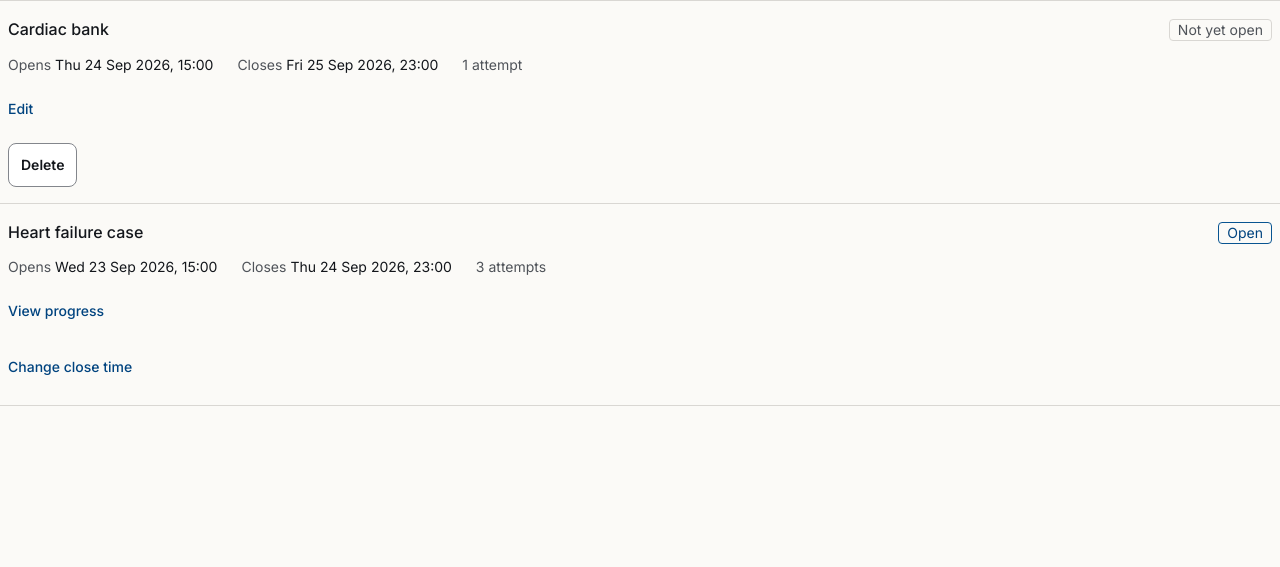
Scenario: AssignmentList › mounts an edit form only when its row is opened
Click the heading "Change close time" at (70, 367), box [8,345,132,389]
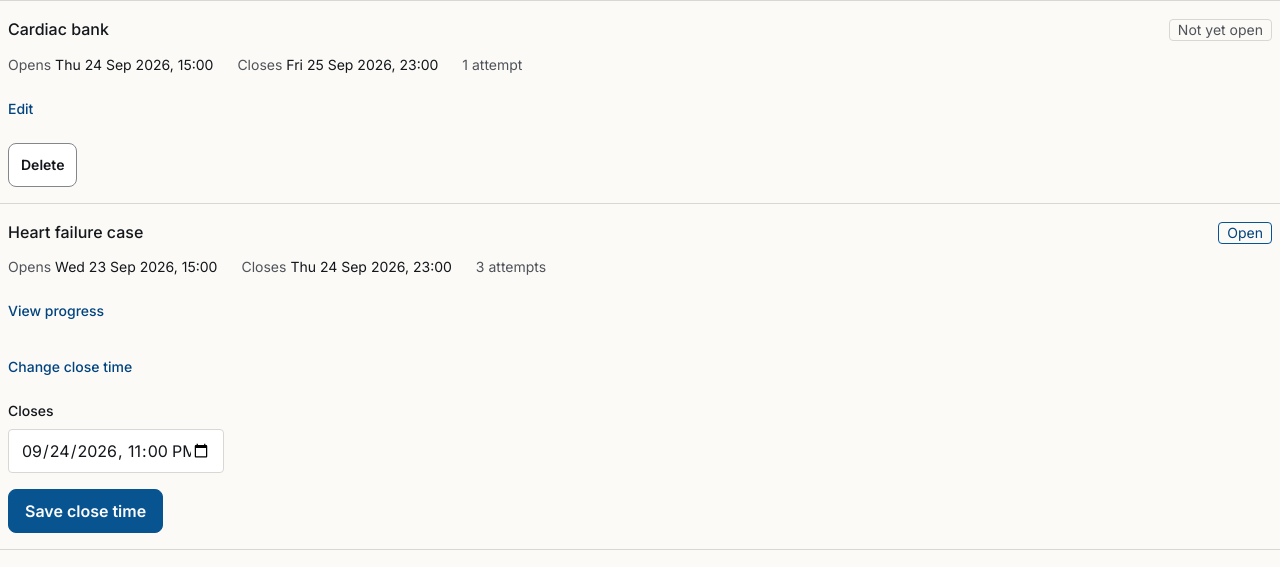
Expected: the number of fields labelled "Closes" is 1, [8,429,224,473]
